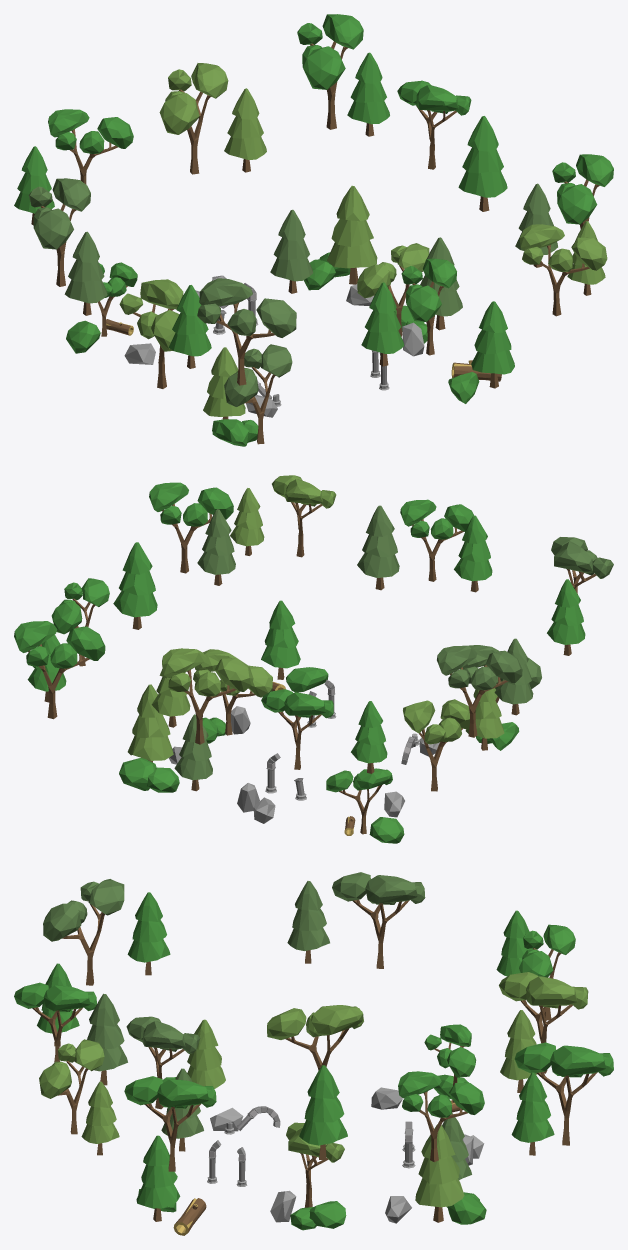
Rendered from Spawn_decor.fbx.
3 renders of one model, top to bottom at view 1: azimuth 30°, elevation 25°; view 2: azimuth 150°, elevation 25°; view 3: azimuth 270°, elevation 25°, orthographic. The views are drawn at different scales.
Parts seen in each view (by area): view 1: Spawn decor; view 2: Spawn decor; view 3: Spawn decor.
Boxes of the visible parts, <box> form: Spawn decor: <box>14,14,613,446</box>; Spawn decor: <box>14,475,613,843</box>; Spawn decor: <box>14,872,613,1235</box>.
Size of the model in its own units: 8793 by 3620 by 9496.
